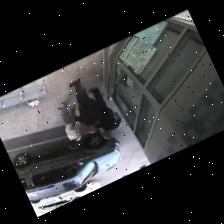person: (89, 87, 121, 138), (70, 79, 100, 131), (58, 103, 81, 148)
